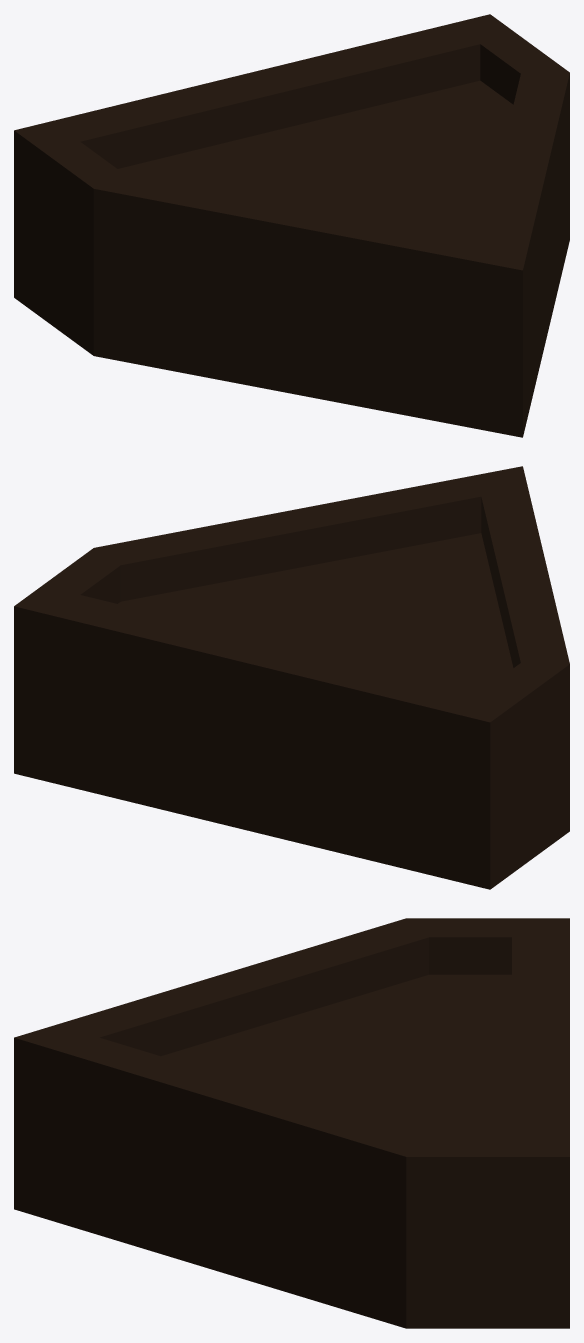
File: SFFA_Weapon_Crossbow_Prop.fbx
The picture shows the model from 3 angles, top to bottom: view 1: azimuth 30°, elevation 25°; view 2: azimuth 150°, elevation 25°; view 3: azimuth 270°, elevation 25°; orthographic projection. The views are drawn at different scales.
Parts seen in each view (by area): view 1: SFFA_Weapon_Crossbow_Prop; view 2: SFFA_Weapon_Crossbow_Prop; view 3: SFFA_Weapon_Crossbow_Prop.
Boxes of the visible parts, left/top/right/bottom form: SFFA_Weapon_Crossbow_Prop: left=14, top=14, right=569, bottom=437; SFFA_Weapon_Crossbow_Prop: left=14, top=466, right=569, bottom=889; SFFA_Weapon_Crossbow_Prop: left=14, top=918, right=569, bottom=1328.
Size of the model in its own units: 4.59 by 1.54 by 4.52.
